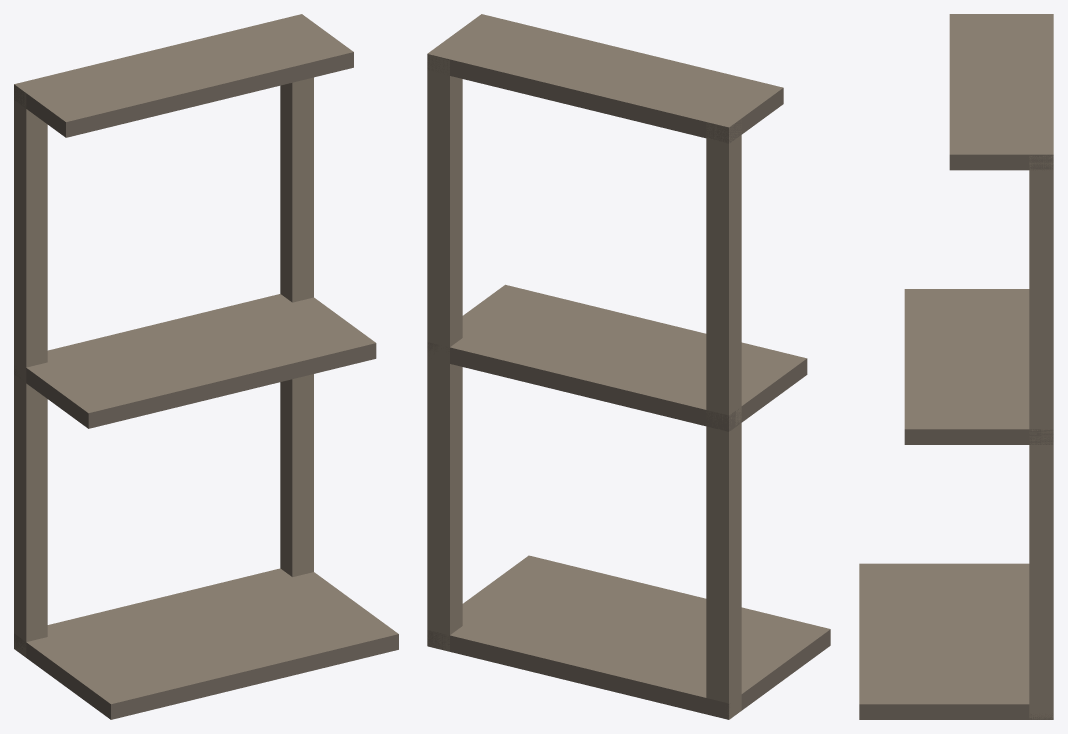
Rendered from end_shelf.glb.
The picture shows the model from 3 angles, left to right: view 1: azimuth 30°, elevation 25°; view 2: azimuth 150°, elevation 25°; view 3: azimuth 270°, elevation 25°; orthographic projection. The views are drawn at different scales.
Visible parts, largest first — view 1: end_shelf; view 2: end_shelf; view 3: end_shelf.
Boxes of the visible parts, x1,y1,x2,y2 form: end_shelf: [14, 14, 398, 719]; end_shelf: [427, 14, 830, 719]; end_shelf: [859, 14, 1053, 719].
Size of the model in its own units: 0.48 by 0.9 by 0.28.
